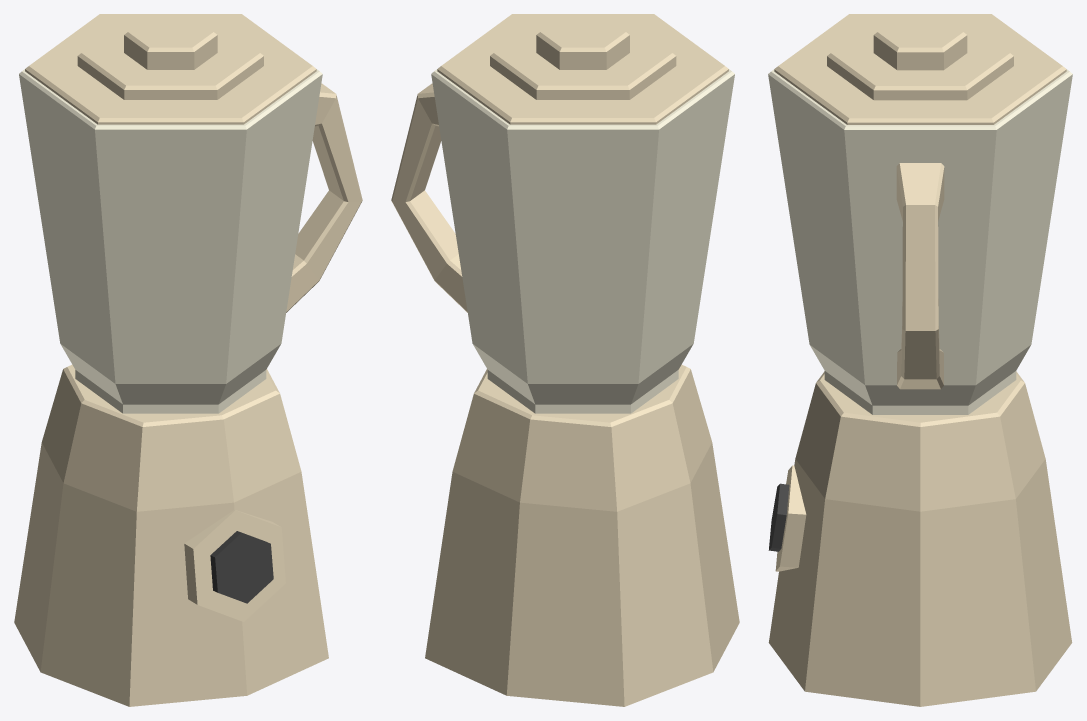
Rendered from Blender1.glb.
3 views of the same model, side by side, from view 1: azimuth 30°, elevation 25°; view 2: azimuth 150°, elevation 25°; view 3: azimuth 270°, elevation 25° (orthographic).
Parts seen in each view (by area): view 1: Pitcher1Blender1, Blender1, Stayputlid1Blender1, Button1Blender1; view 2: Blender1, Pitcher1Blender1, Stayputlid1Blender1; view 3: Blender1, Pitcher1Blender1, Stayputlid1Blender1, Button1Blender1.
Part boxes in pixels (<box>): Pitcher1Blender1: <box>19,69,362,413</box>; Blender1: <box>14,364,328,706</box>; Stayputlid1Blender1: <box>25,14,316,124</box>; Button1Blender1: <box>210,531,273,603</box>; Blender1: <box>425,364,739,706</box>; Pitcher1Blender1: <box>391,69,734,413</box>; Stayputlid1Blender1: <box>437,14,728,124</box>; Blender1: <box>768,371,1072,706</box>; Pitcher1Blender1: <box>768,69,1072,414</box>; Stayputlid1Blender1: <box>774,14,1066,124</box>; Button1Blender1: <box>768,483,789,551</box>.
Size of the model in its own units: 0.3561 by 0.6581 by 0.2979.
